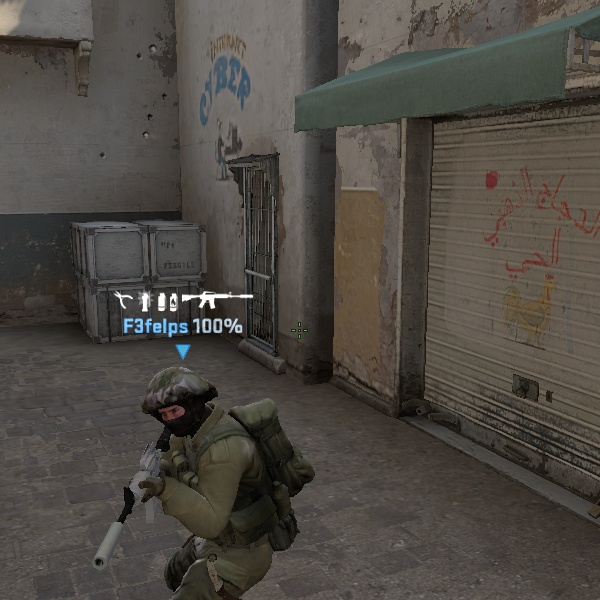ct_body: (118, 360, 299, 600)
ct_head: (139, 365, 222, 445)
